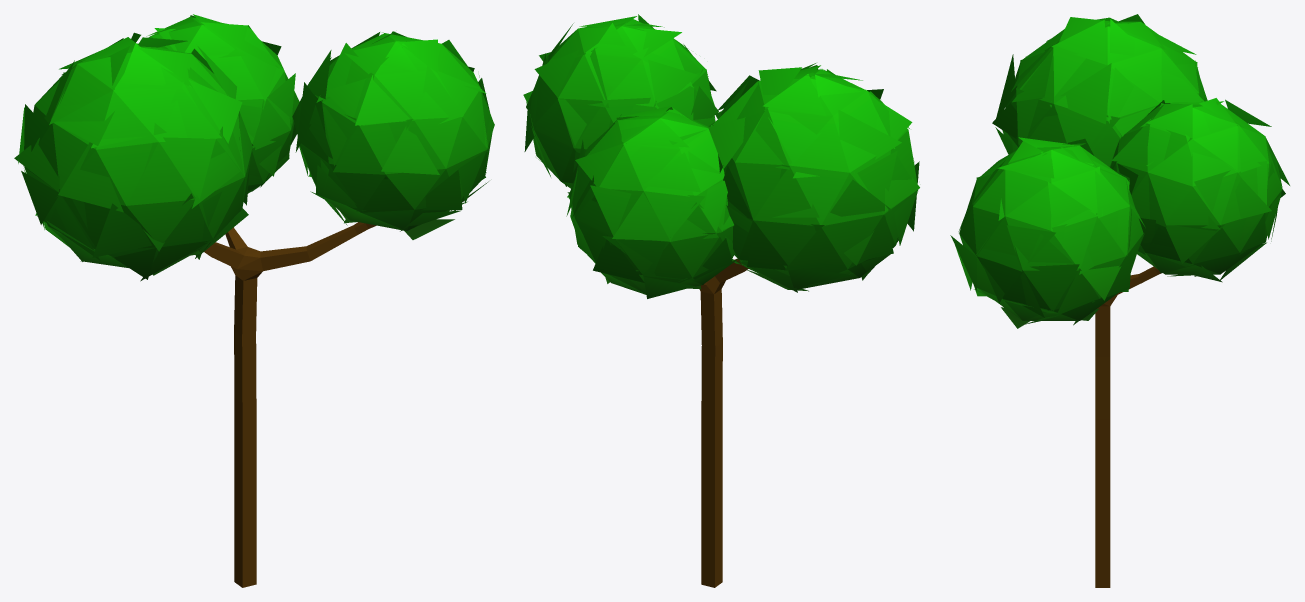
File: Tree_04.fbx
3 views of the same model, side by side, from view 1: azimuth 30°, elevation 25°; view 2: azimuth 150°, elevation 25°; view 3: azimuth 270°, elevation 25° (orthographic). The views are drawn at different scales.
Parts seen in each view (by area): view 1: Icosphere.001, Plane; view 2: Icosphere.001, Plane; view 3: Icosphere.001, Plane.
Part boxes in pixels (<box>): Icosphere.001: <box>14,14,494,281</box>; Plane: <box>204,222,376,587</box>; Icosphere.001: <box>523,14,919,298</box>; Plane: <box>699,258,748,587</box>; Icosphere.001: <box>950,14,1289,328</box>; Plane: <box>1095,266,1160,587</box>.
Bounding box in the file's own units: 439 × 570 × 336.
Materials: 2 (1 with a texture image).
